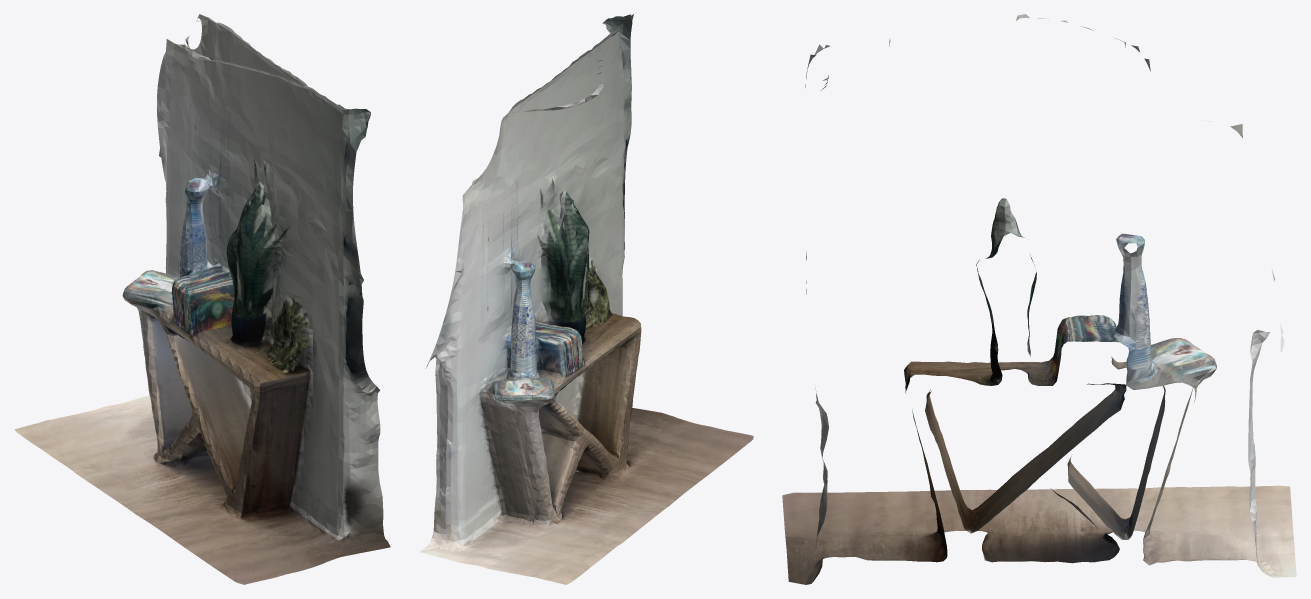
File: marcelminilibrary.glb
3 renders of one model, left to right at view 1: azimuth 30°, elevation 25°; view 2: azimuth 150°, elevation 25°; view 3: azimuth 270°, elevation 25°, orthographic. The views are drawn at different scales.
Size of the model in its own units: 0.9564 by 2.4 by 2.15.
1 material, 1 textured.
